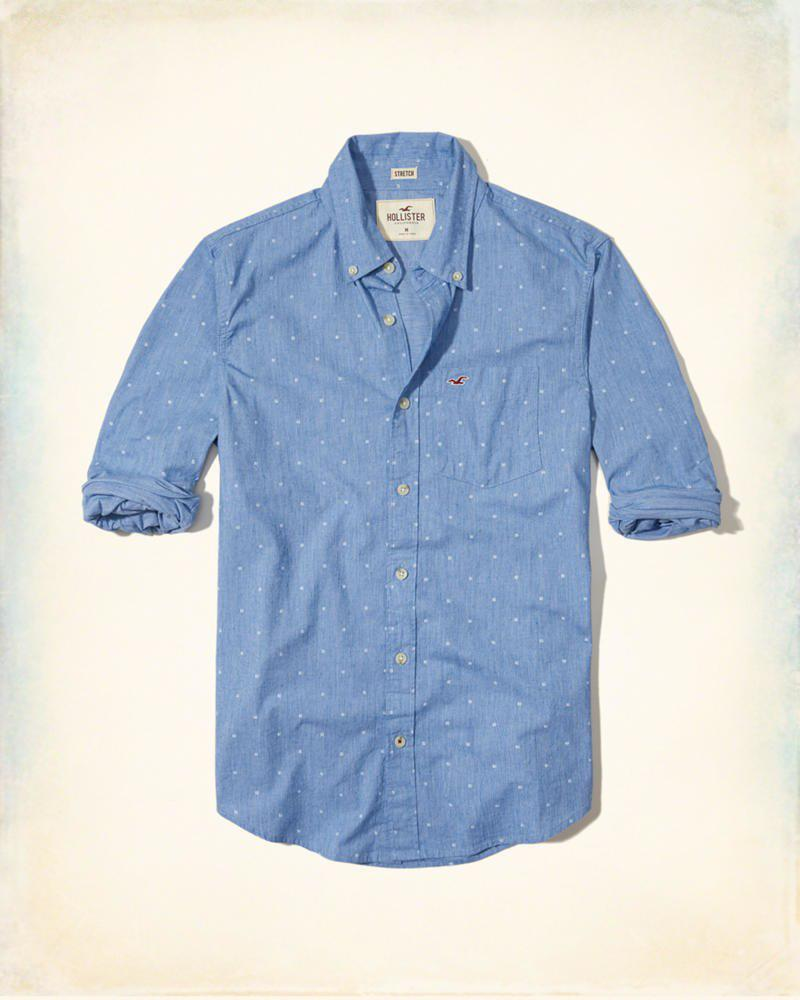teeshirt: (67, 131, 729, 890)
